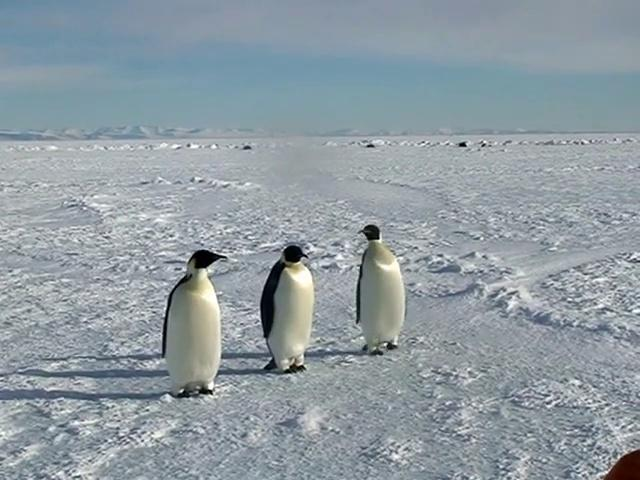animal: (357, 226, 406, 356)
